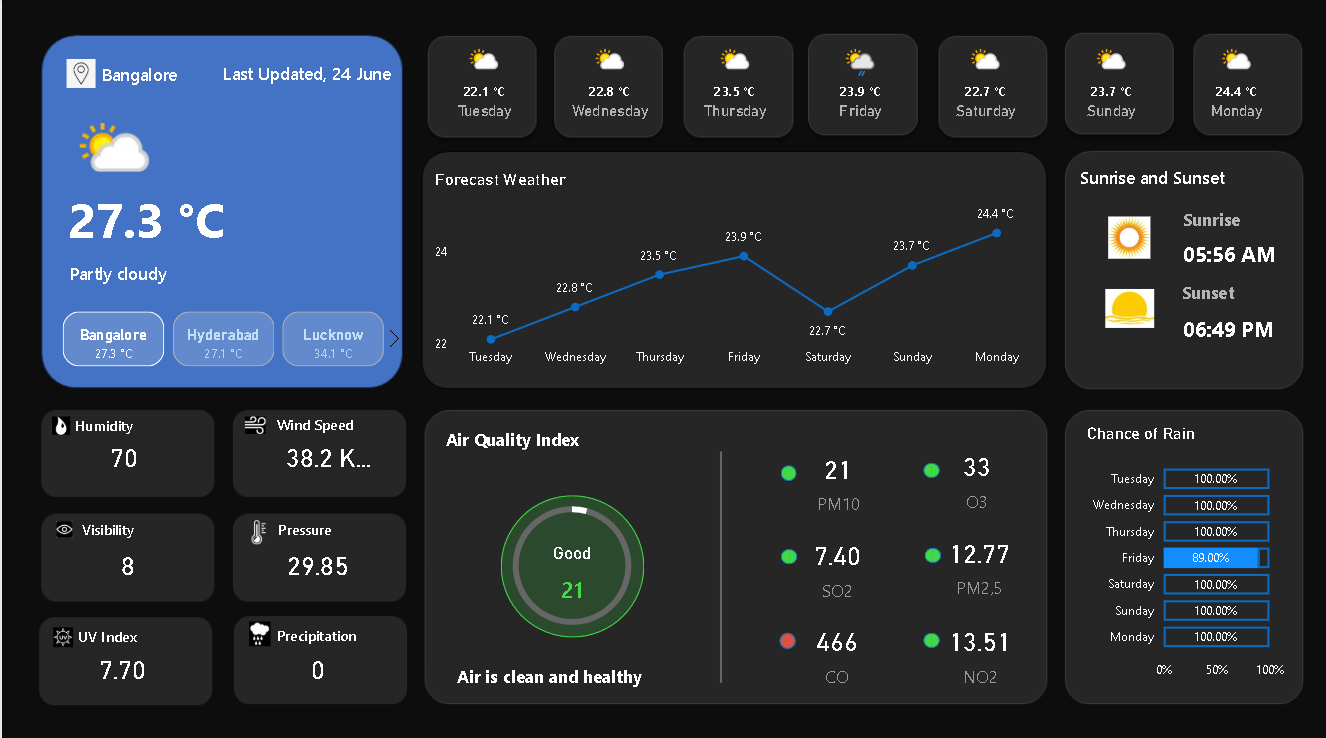

The page's visual inventory and layout, read from the dashboard file:
{"tool":"powerbi","page":{"name":"Page 1","canvas":[1280,720],"ordinal":0},"visuals":[{"type":"shape","box":[481.1,478.5,138.5,137.3],"z":1000},{"type":"donutChart","fields":{"Y":["Sum(Current.current.air_quality.pm10)","_Measures.Left_Value_PM10"]},"box":[460.5,470.4,179,153.1],"z":2000},{"type":"advancedSlicerVisual","fields":{"Values":["Locations.location.name"]},"box":[34.1,296.3,360.9,63.4],"z":3000},{"type":"shape","box":[63.9,160.5,188.2,103.8],"z":4000},{"type":"shape","box":[64.6,247.5,304.8,34.1],"z":5000},{"type":"shape","box":[96.6,57.6,105.9,28.2],"z":6000},{"type":"shape","box":[213.7,57,172.2,28.2],"z":7000},{"type":"image","box":[56.7,53.1,39.5,38.1],"z":8000},{"type":"cardVisual","fields":{"Data":["Min(Current.current.condition.icon)"]},"box":[48.8,91.4,111,80.5],"z":9000},{"type":"image","box":[46.8,499.2,26.5,25.3],"z":10000},{"type":"shape","box":[77.1,495.4,67,32.9],"z":11000},{"type":"image","box":[43.4,398.1,27.7,27.7],"z":12000},{"type":"shape","box":[70,398.1,67.6,27.7],"z":13000},{"type":"shape","box":[265.4,396.8,84.7,27.8],"z":14000},{"type":"image","box":[227.5,398.1,32.9,26.5],"z":15000},{"type":"image","box":[44.2,600.3,29.1,30.3],"z":16000},{"type":"shape","box":[73.3,602.8,67,24],"z":17000},{"type":"image","box":[230,596.5,36.7,34.1],"z":18000},{"type":"shape","box":[265.4,599.1,80.9,30.3],"z":19000},{"type":"image","box":[235.1,497.9,25.3,32.9],"z":20000},{"type":"shape","box":[266.7,497.9,84.7,27.8],"z":21000},{"type":"card","fields":{"Values":["Sum(Current.current.humidity)"]},"box":[87.2,425.9,61.9,32.9],"z":22000},{"type":"card","fields":{"Values":["_Measures.Wind_Speed"]},"box":[265.2,425.9,99.5,33.2],"z":23000},{"type":"card","fields":{"Values":["Sum(Current.current.pressure_in)"]},"box":[270.5,530.8,70.8,31.6],"z":24000},{"type":"card","fields":{"Values":["Sum(Current.current.vis_km)"]},"box":[87.2,530.8,70.8,31.6],"z":25000},{"type":"card","fields":{"Values":["Sum(Current.current.uv)"]},"box":[83.4,630.6,65.7,31.6],"z":26000},{"type":"card","fields":{"Values":["Sum(Current.current.precip_in)"]},"box":[276.8,630.6,58.1,31.6],"z":27000},{"type":"advancedSlicerVisual","fields":{"Values":["Forecast_Day.Day_Name"]},"box":[404.1,37.2,850.5,96.2],"z":28000},{"type":"lineChart","title":"Forecast Weather","fields":{"Y":["Sum(Forecast_Day.forecast.forecastday.day.avgtemp_c)"],"Category":["Forecast_Day.Day_Name"]},"box":[412.6,165.3,585.1,197.9],"z":29000},{"type":"shape","box":[1040,158,154.4,27.7],"z":30000},{"type":"shape","box":[1140.1,193,97.7,37.4],"z":31000},{"type":"shape","box":[1138.9,264.2,97.7,37.4],"z":32000},{"type":"shape","box":[1140.1,226.8,97.7,37.4],"z":33000},{"type":"shape","box":[1140.1,299.2,97.7,37.4],"z":34000},{"type":"image","box":[1053.2,205.1,70,50.7],"z":35000},{"type":"image","box":[1059.3,275.1,57.9,47.1],"z":36000},{"type":"shape","box":[428.5,410.5,142.4,26.9],"z":37000},{"type":"card","fields":{"Values":["Sum(Current.current.air_quality.pm10)"]},"box":[767.6,431,80.3,68.9],"z":38000},{"type":"card","fields":{"Values":["Sum(Current.current.air_quality.o3)"]},"box":[905.4,425.9,72.7,74],"z":39000},{"type":"card","fields":{"Values":["Sum(Current.current.air_quality.so2)"]},"box":[766.4,513.9,80.3,68.9],"z":40000},{"type":"card","fields":{"Values":["Sum(Current.current.air_quality.pm2_5)"]},"box":[907.9,511.3,70.1,68.9],"z":41000},{"type":"card","fields":{"Values":["Sum(Current.current.air_quality.co)"]},"box":[766.4,596.8,80.3,68.9],"z":42000},{"type":"card","fields":{"Values":["Sum(Current.current.air_quality.no2)"]},"box":[907.9,596.8,71.4,68.9],"z":43000},{"type":"shape","box":[751.1,450.1,15.3,15.3],"z":44000},{"type":"shape","box":[750.4,611.7,15.7,15.7],"z":45000},{"type":"shape","box":[751.9,530.9,16,14.8],"z":46000},{"type":"shape","box":[888.9,448.1,16,14.8],"z":47000},{"type":"shape","box":[890.1,529.6,16,14.8],"z":48000},{"type":"shape","box":[888.9,611.1,16,14.8],"z":49000},{"type":"shape","box":[658,437,72.8,223.5],"z":50000},{"type":"card","fields":{"Values":["Sum(Current.current.air_quality.pm10)"]},"box":[510.6,524.7,79.5,71.8],"z":51000},{"type":"shape","box":[438.7,638.8,180.9,26.9],"z":52000},{"type":"hundredPercentStackedBarChart","title":"Chance of Rain","fields":{"Y":["Sum(Forecast_Day.forecast.forecastday.day.daily_chance_of_rain)","Current.Left_Value_Rain"],"Category":["Forecast_Day.Day_Name"]},"box":[1042.9,410.5,200.1,255.3],"z":53000}]}

Visuals, with their boxes in screenshot pixels (x1, y1, x2, y2), scaled from the page's 1280x720 canvas onto the 1326x738 screenshot:
shape: crop(498, 490, 642, 631)
donutChart - Sum(Current.current.air_quality.pm10) x _Measures.Left_Value_PM10: crop(477, 482, 662, 639)
advancedSlicerVisual - Locations.location.name: crop(35, 304, 409, 369)
shape: crop(66, 165, 261, 271)
shape: crop(67, 254, 383, 289)
shape: crop(100, 59, 210, 88)
shape: crop(221, 58, 400, 87)
image: crop(59, 54, 100, 93)
cardVisual - Min(Current.current.condition.icon): crop(51, 94, 166, 176)
image: crop(48, 512, 76, 538)
shape: crop(80, 508, 149, 542)
image: crop(45, 408, 74, 436)
shape: crop(73, 408, 143, 436)
shape: crop(275, 407, 363, 435)
image: crop(236, 408, 270, 435)
image: crop(46, 615, 76, 646)
shape: crop(76, 618, 145, 642)
image: crop(238, 611, 276, 646)
shape: crop(275, 614, 359, 645)
image: crop(244, 510, 270, 544)
shape: crop(276, 510, 364, 539)
card - Sum(Current.current.humidity): crop(90, 437, 154, 470)
card - _Measures.Wind_Speed: crop(275, 437, 378, 471)
card - Sum(Current.current.pressure_in): crop(280, 544, 354, 576)
card - Sum(Current.current.vis_km): crop(90, 544, 164, 576)
card - Sum(Current.current.uv): crop(86, 646, 154, 679)
card - Sum(Current.current.precip_in): crop(287, 646, 347, 679)
advancedSlicerVisual - Forecast_Day.Day_Name: crop(419, 38, 1300, 137)
"Forecast Weather" lineChart: crop(427, 169, 1034, 372)
shape: crop(1077, 162, 1237, 190)
shape: crop(1181, 198, 1282, 236)
shape: crop(1180, 271, 1281, 309)
shape: crop(1181, 232, 1282, 271)
shape: crop(1181, 307, 1282, 345)
image: crop(1091, 210, 1164, 262)
image: crop(1097, 282, 1157, 330)
shape: crop(444, 421, 591, 448)
card - Sum(Current.current.air_quality.pm10): crop(795, 442, 878, 512)
card - Sum(Current.current.air_quality.o3): crop(938, 437, 1013, 512)
card - Sum(Current.current.air_quality.so2): crop(794, 527, 877, 597)
card - Sum(Current.current.air_quality.pm2_5): crop(941, 524, 1013, 595)
card - Sum(Current.current.air_quality.co): crop(794, 612, 877, 682)
card - Sum(Current.current.air_quality.no2): crop(941, 612, 1014, 682)
shape: crop(778, 461, 794, 477)
shape: crop(777, 627, 794, 643)
shape: crop(779, 544, 795, 559)
shape: crop(921, 459, 937, 474)
shape: crop(922, 543, 939, 558)
shape: crop(921, 626, 937, 642)
shape: crop(682, 448, 757, 677)
card - Sum(Current.current.air_quality.pm10): crop(529, 538, 611, 611)
shape: crop(454, 655, 642, 682)
"Chance of Rain" hundredPercentStackedBarChart: crop(1080, 421, 1288, 682)
